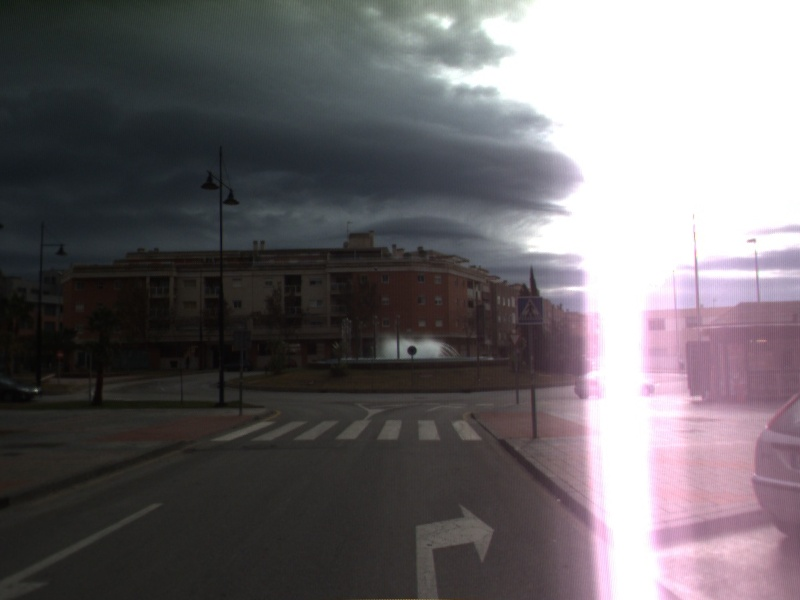RIGHT: (410, 498, 498, 600)
